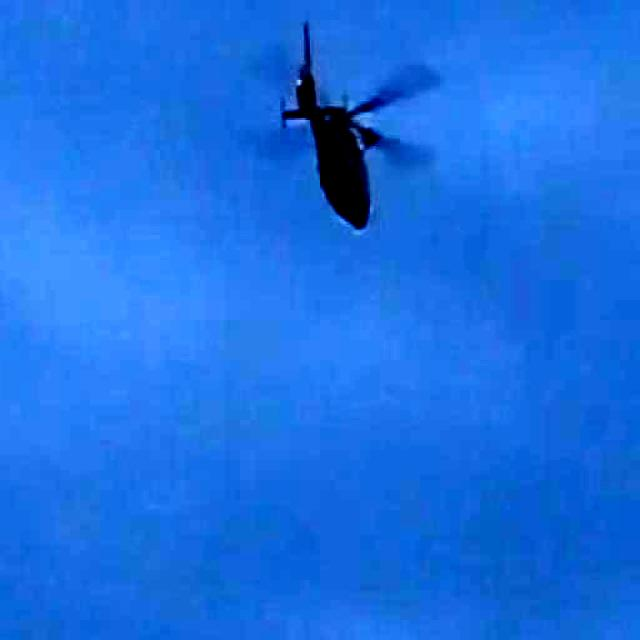drone: (271, 19, 409, 239)
